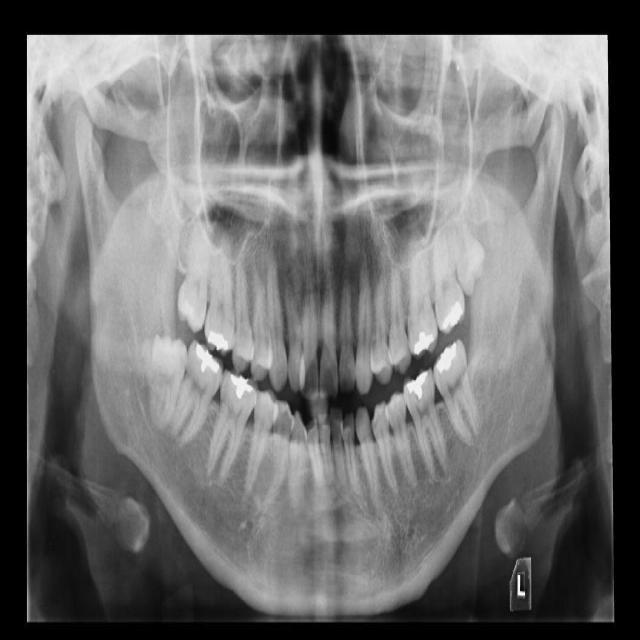Filling: (194, 343, 221, 374), (439, 300, 464, 329), (230, 373, 255, 399), (436, 342, 456, 374), (407, 371, 428, 400), (414, 330, 436, 352), (207, 331, 229, 351)
impacted tooth: (148, 336, 188, 434), (449, 210, 483, 297)
